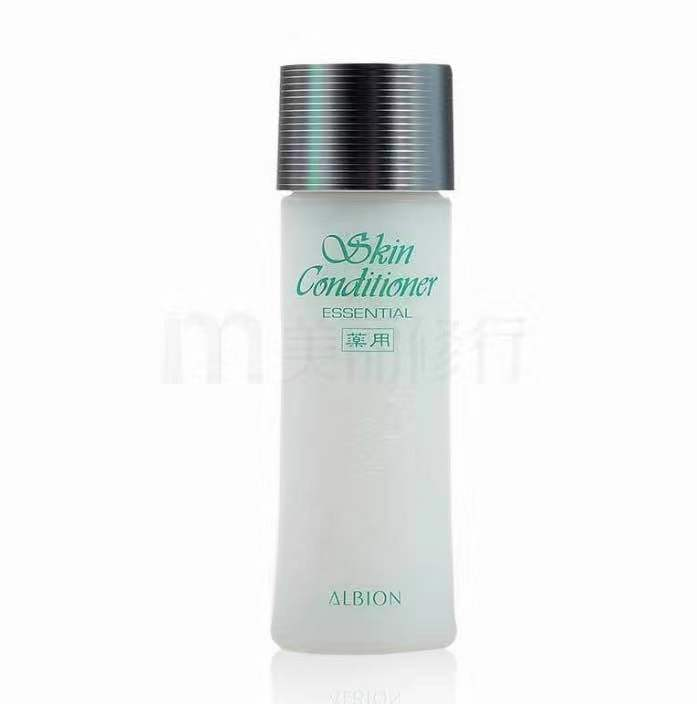cosmetic: (268, 60, 456, 653)
